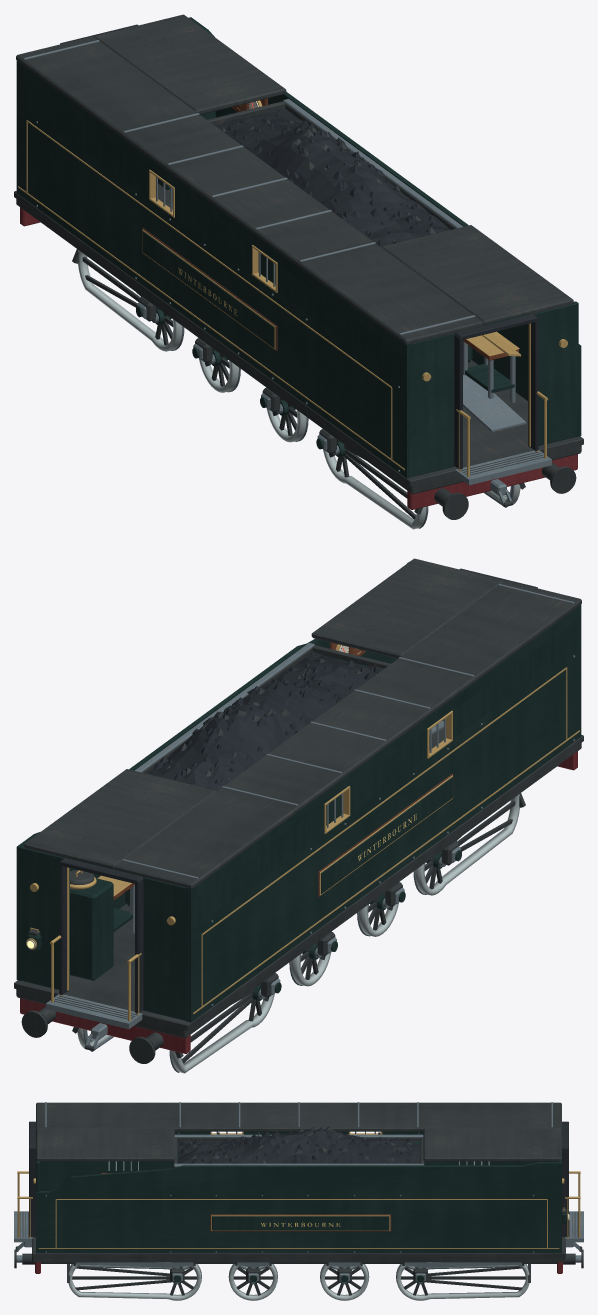
The model's file is Car02.fbx.
3 views of the same model, one above another, from view 1: azimuth 30°, elevation 25°; view 2: azimuth 150°, elevation 25°; view 3: azimuth 270°, elevation 25° (orthographic). The views are drawn at different scales.
Parts seen in each view (by area): view 1: Cut_Tender_Passage_Side, Roof_Tender_Tunnel, Tender_Underframe, Tender_Vestibule_A, Tender_Coal, Tender_Water_Tank, Tender_Tank_Sides, Tender_Wheelset_4, Tender_Wheelset_55, Front tool room, Tender_Wheelset_39, Tender_Wheelset_20; view 2: Cut_Tender_Passage_Side, Roof_Tender_Tunnel, Tender_Underframe, Tender_Vestibule_B, Tender_Coal, Tender_fill_and_hatch, Tender_Wheelset_55, Tender_Wheelset_4, Tender_Water_Tank, Tender_Tank_Sides, Tender_Wheelset_20, Tender_Wheelset_39 (+1 smaller); view 3: Tender_Tank_Sides, Roof_Tender_Tunnel, Tender_Underframe, Tender_Coal, Cut_Tender_Passage_Side, Tender_Wheelset_4, Tender_Wheelset_55, Tender_Water_Tank, Tender_Vestibule_A, Tender_Vestibule_B, Tender_Wheelset_20, Tender_Wheelset_39.
Part boxes in pixels (<box>): Cut_Tender_Passage_Side: <box>16,60,411,478</box>; Roof_Tender_Tunnel: <box>16,14,573,344</box>; Tender_Underframe: <box>14,183,583,519</box>; Tender_Vestibule_A: <box>409,301,578,477</box>; Tender_Coal: <box>215,109,450,247</box>; Tender_Water_Tank: <box>207,99,526,431</box>; Tender_Tank_Sides: <box>189,17,581,436</box>; Tender_Wheelset_4: <box>322,428,520,529</box>; Tender_Wheelset_55: <box>78,250,184,351</box>; Front tool room: <box>463,331,519,403</box>; Tender_Wheelset_39: <box>199,348,240,392</box>; Tender_Wheelset_20: <box>266,398,308,442</box>; Cut_Tender_Passage_Side: <box>186,604,581,1022</box>; Roof_Tender_Tunnel: <box>24,558,581,888</box>; Tender_Underframe: <box>14,719,583,1063</box>; Tender_Vestibule_B: <box>19,845,188,1021</box>; Tender_Coal: <box>147,651,383,791</box>; Tender_fill_and_hatch: <box>70,869,113,980</box>; Tender_Wheelset_55: <box>77,972,275,1073</box>; Tender_Wheelset_4: <box>413,794,519,895</box>; Tender_Water_Tank: <box>125,643,443,906</box>; Tender_Tank_Sides: <box>16,638,397,980</box>; Tender_Wheelset_20: <box>357,892,398,936</box>; Tender_Wheelset_39: <box>289,942,331,986</box>; Tender_Tank_Sides: <box>36,1162,561,1253</box>; Roof_Tender_Tunnel: <box>36,1102,561,1161</box>; Tender_Underframe: <box>14,1211,583,1282</box>; Tender_Coal: <box>177,1126,420,1163</box>; Cut_Tender_Passage_Side: <box>40,1131,557,1190</box>; Tender_Wheelset_4: <box>68,1264,201,1300</box>; Tender_Wheelset_55: <box>396,1264,529,1300</box>; Tender_Water_Tank: <box>173,1134,424,1167</box>; Tender_Vestibule_A: <box>17,1121,39,1237</box>; Tender_Vestibule_B: <box>558,1121,580,1237</box>; Tender_Wheelset_20: <box>228,1264,277,1300</box>; Tender_Wheelset_39: <box>320,1264,369,1300</box>.
Bounding box in the file's own units: 2.94 × 3.88 × 12.
1 material, 1 textured.
